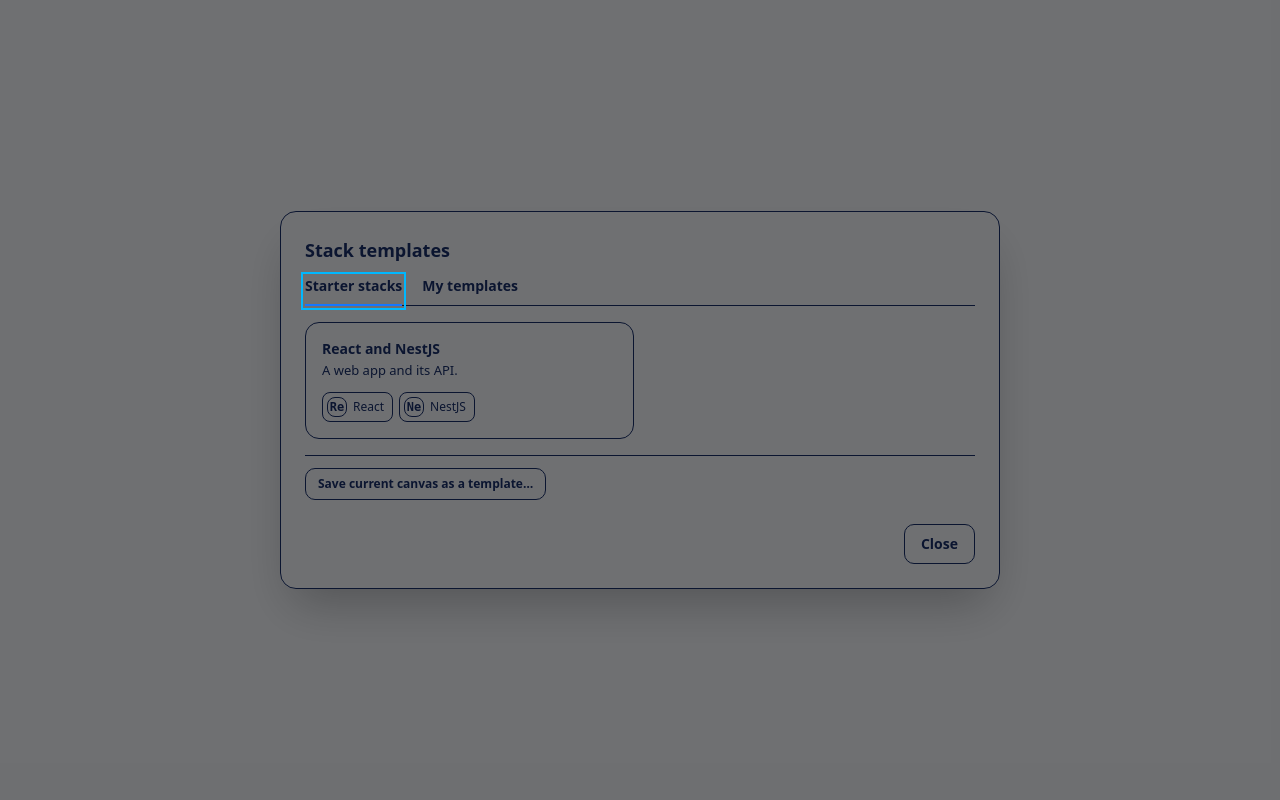
Scenario: TemplatesDialog › lists starter stacks with their components and explains drafts
expect the text "React" is shown: met, box [353,398,384,415]
expect the text "NestJS" is shown: met, box [430,398,466,415]
Click the button "React and NestJS A web app and its API. Re React Ne NestJS" at (381, 349), box [305,322,634,439]
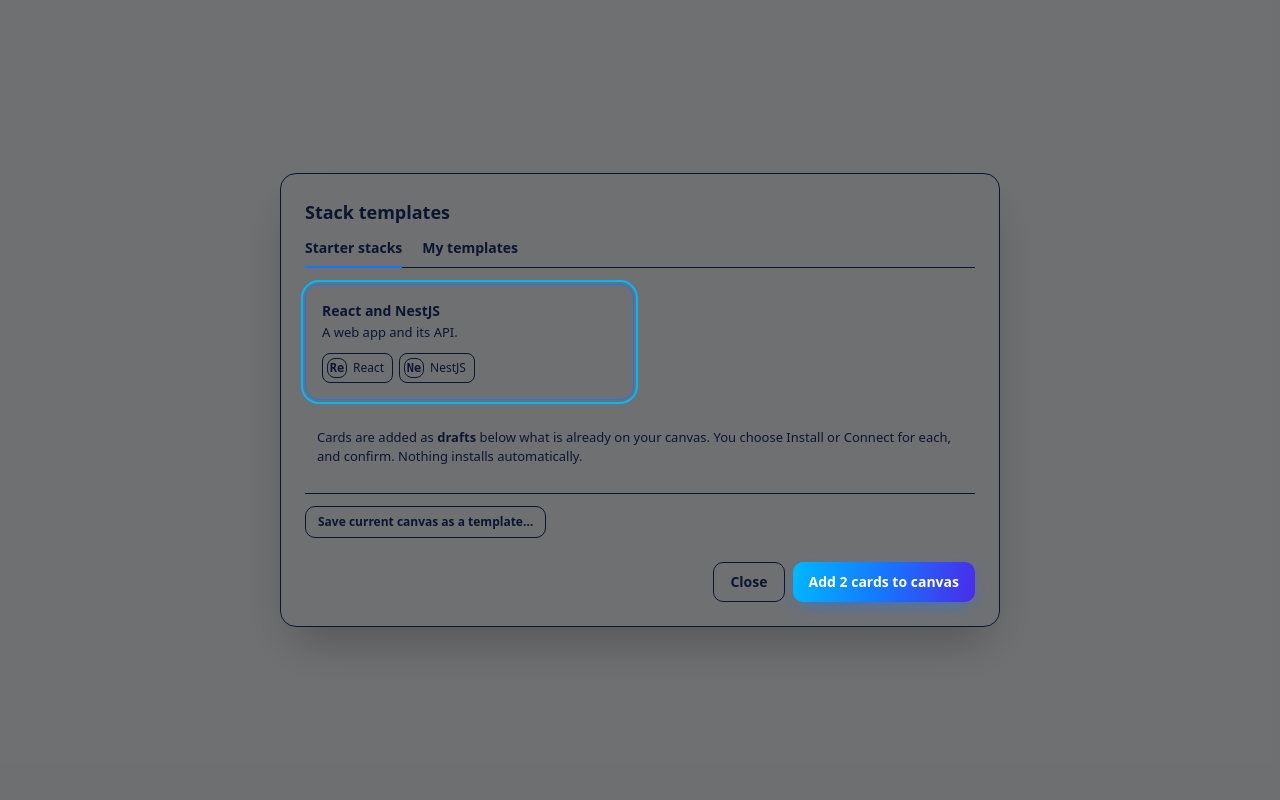
expect the text "Cards are added as" shows "Nothing installs automatically": met, box [317,428,951,465]
expect the button "Add 2 cards to canvas" is shown: met, box [792,562,975,602]
